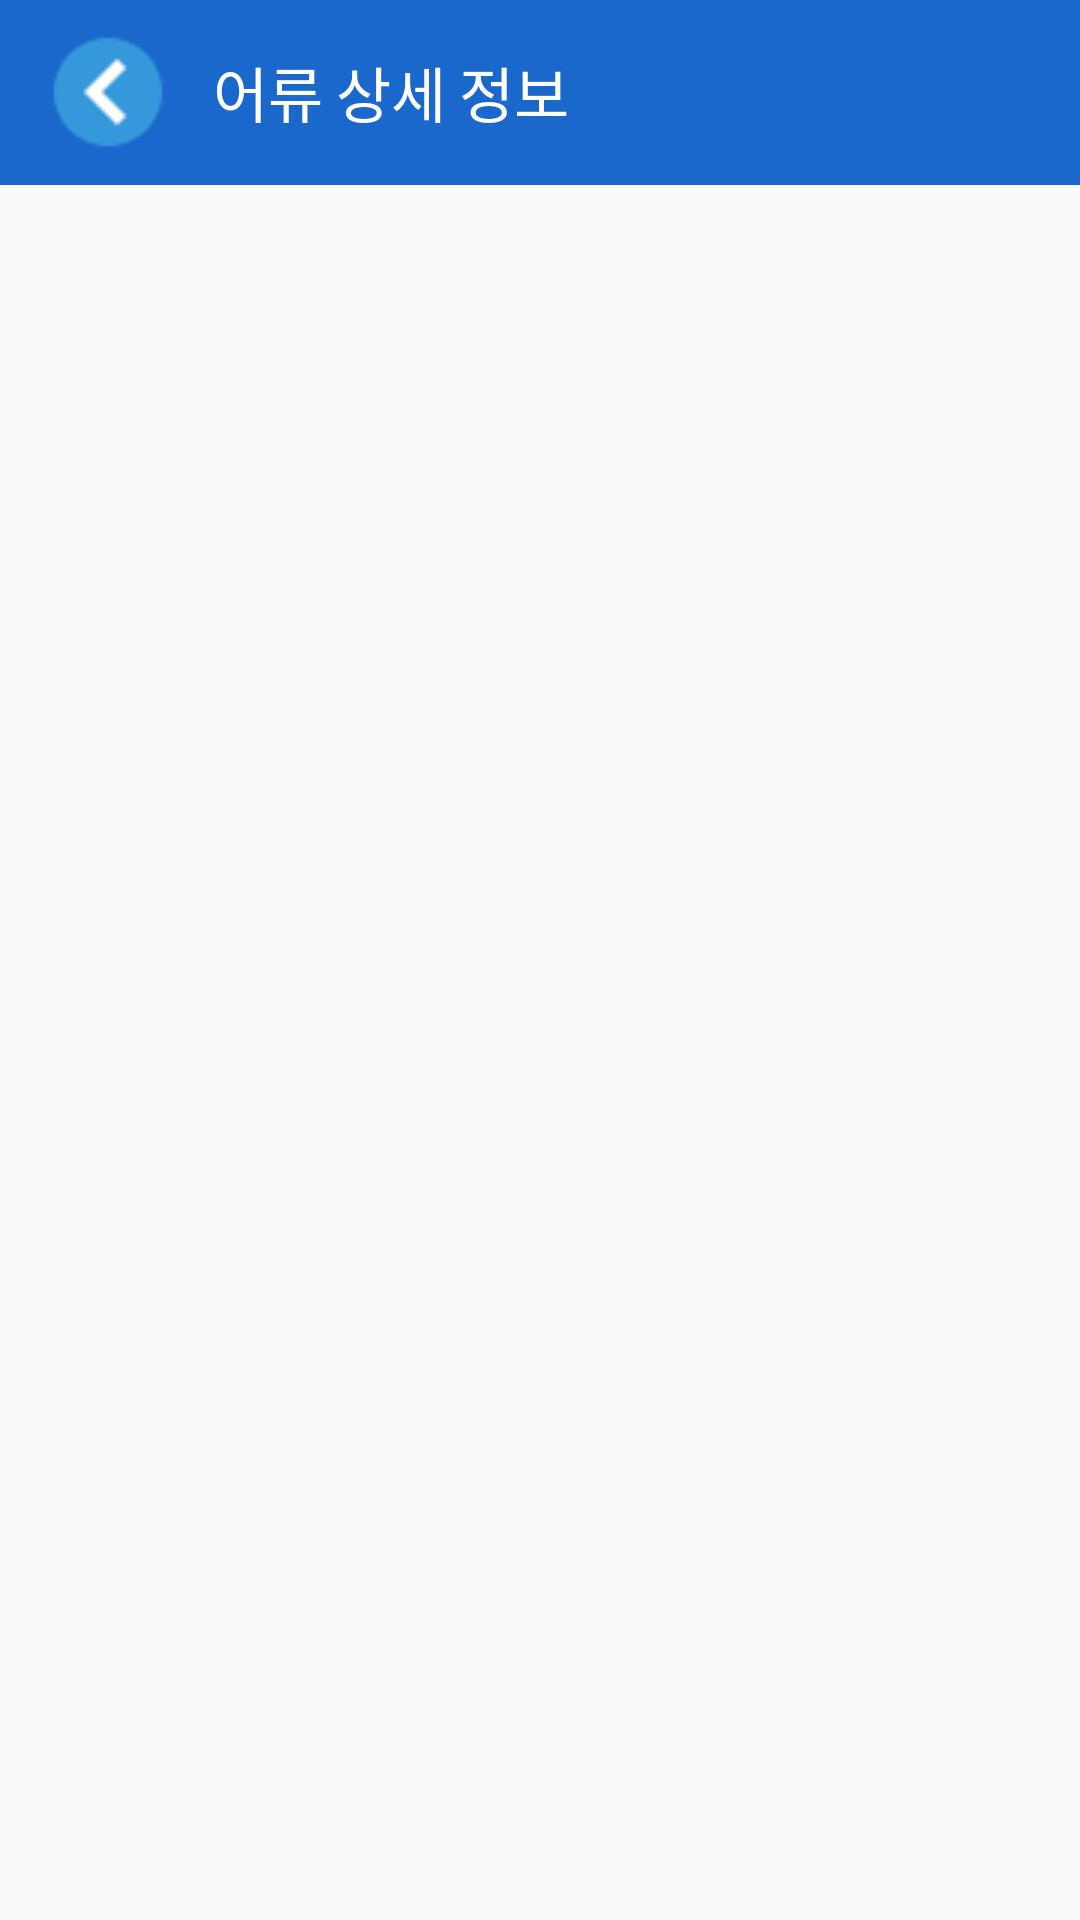

Screen size 1080×1920. Icon name, then its center in pixels as (x=x, y=y):
back to: (x=108, y=92)
